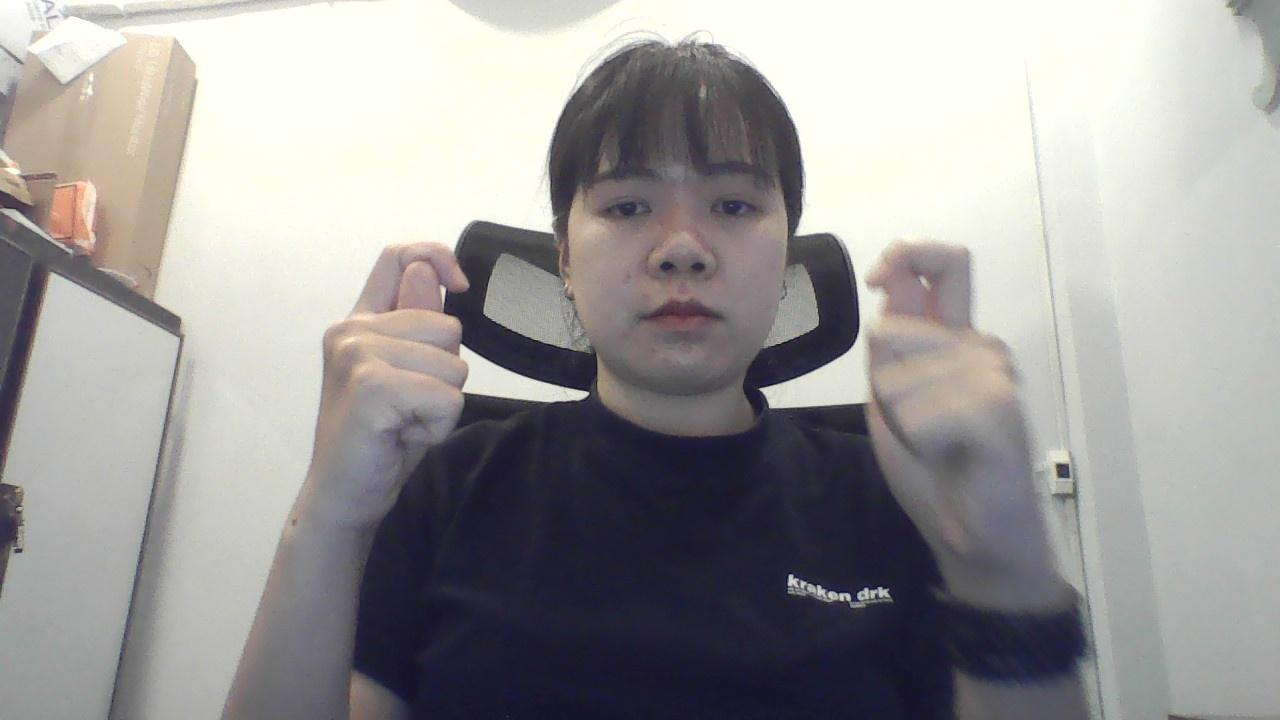X: (319, 217, 487, 534)
